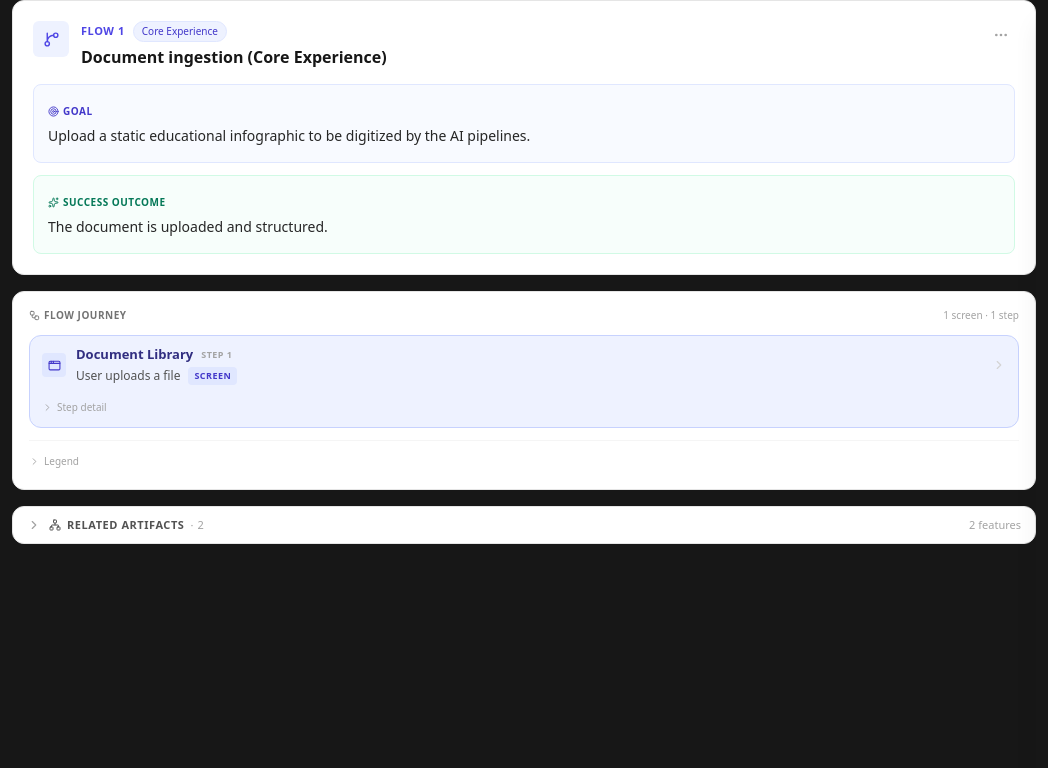
Test: UserFlowsRenderer — desktop cleanup › strips the "Related Features:" line out of the goal and surfaces those features in Related artifacts
Expected: the text "Upload a static educational infographic" is shown, [48,126,530,145]
Click the button "Related artifacts · 2 2 features".
click(126, 524)  # box [13,507,1035,543]
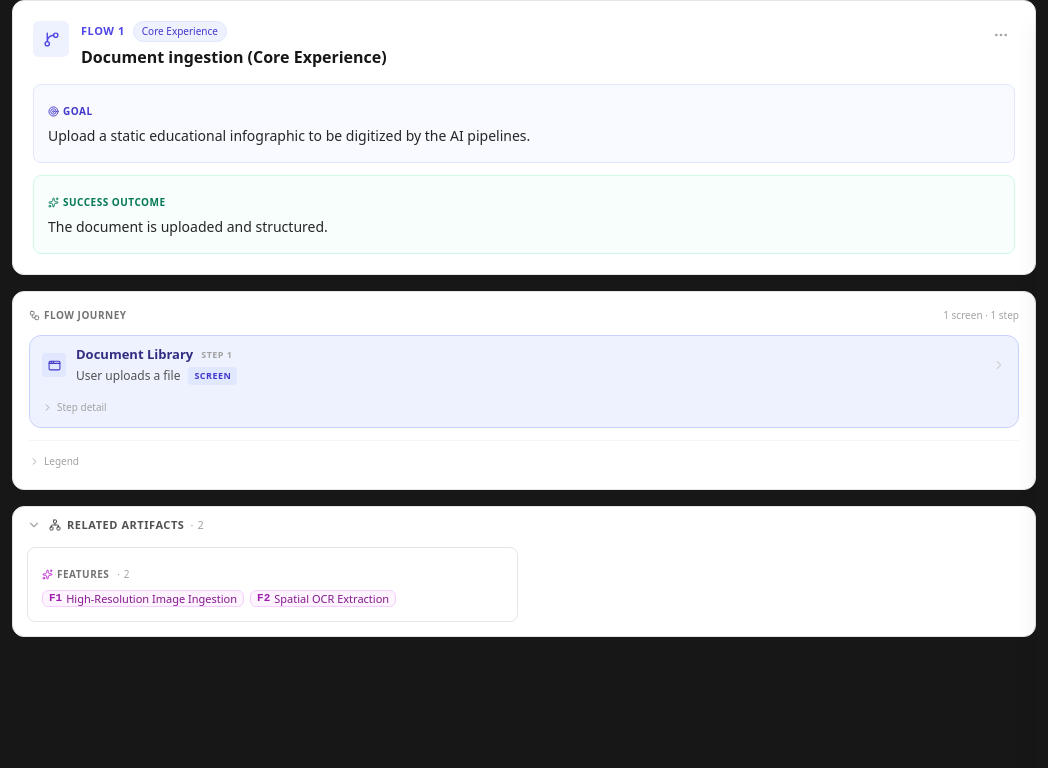
Now the button with test id "feature-ref-f1" is shown, box [42,590,244,607]
Now the button with test id "feature-ref-f2" is shown, box [250,590,396,607]
